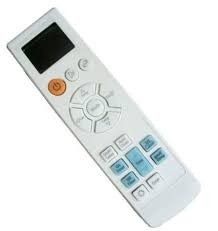remote control: (0, 10, 206, 231)
